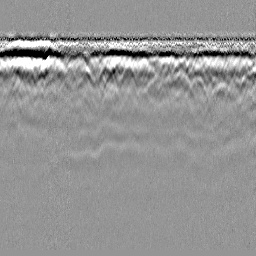cavity: (118, 57, 138, 91)
